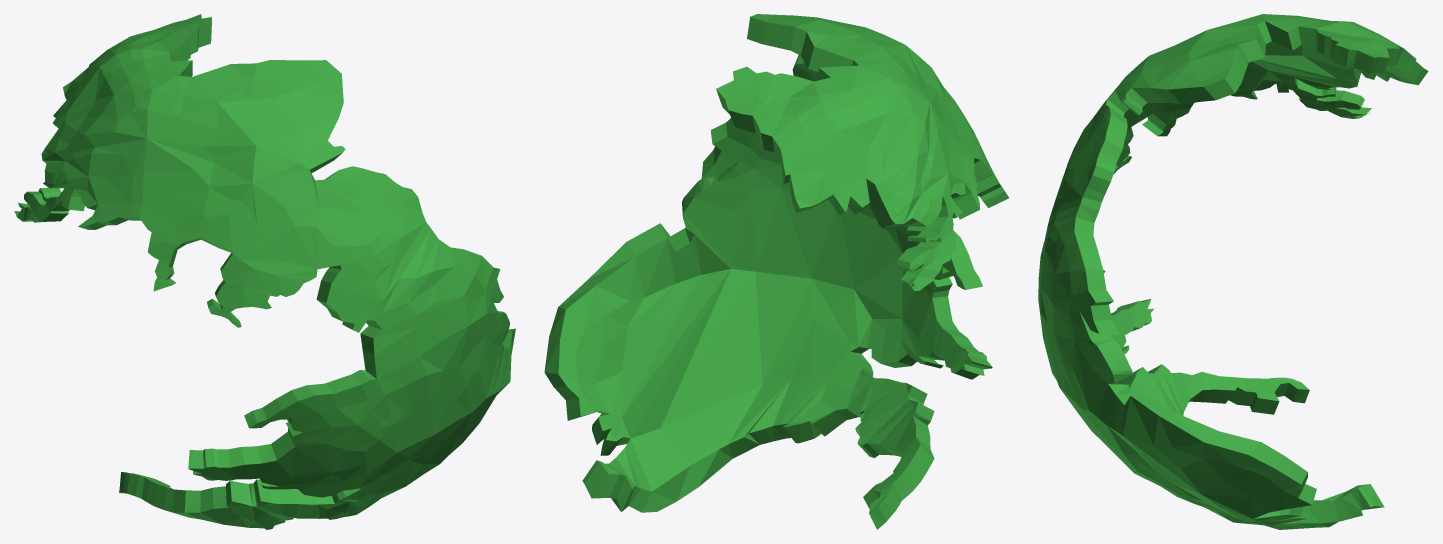
Rendered from Earth_v1.fbx.
3 views of the same model, side by side, from view 1: azimuth 30°, elevation 25°; view 2: azimuth 150°, elevation 25°; view 3: azimuth 270°, elevation 25° (orthographic). The views are drawn at different scales.
Visible parts, largest first — view 1: World; view 2: World; view 3: World.
Boxes of the visible parts, <box> form: World: <box>14,14,515,529</box>; World: <box>544,14,1008,529</box>; World: <box>1038,14,1428,529</box>.
Bounding box in the file's own units: 17.67 × 18.9 × 15.19.
